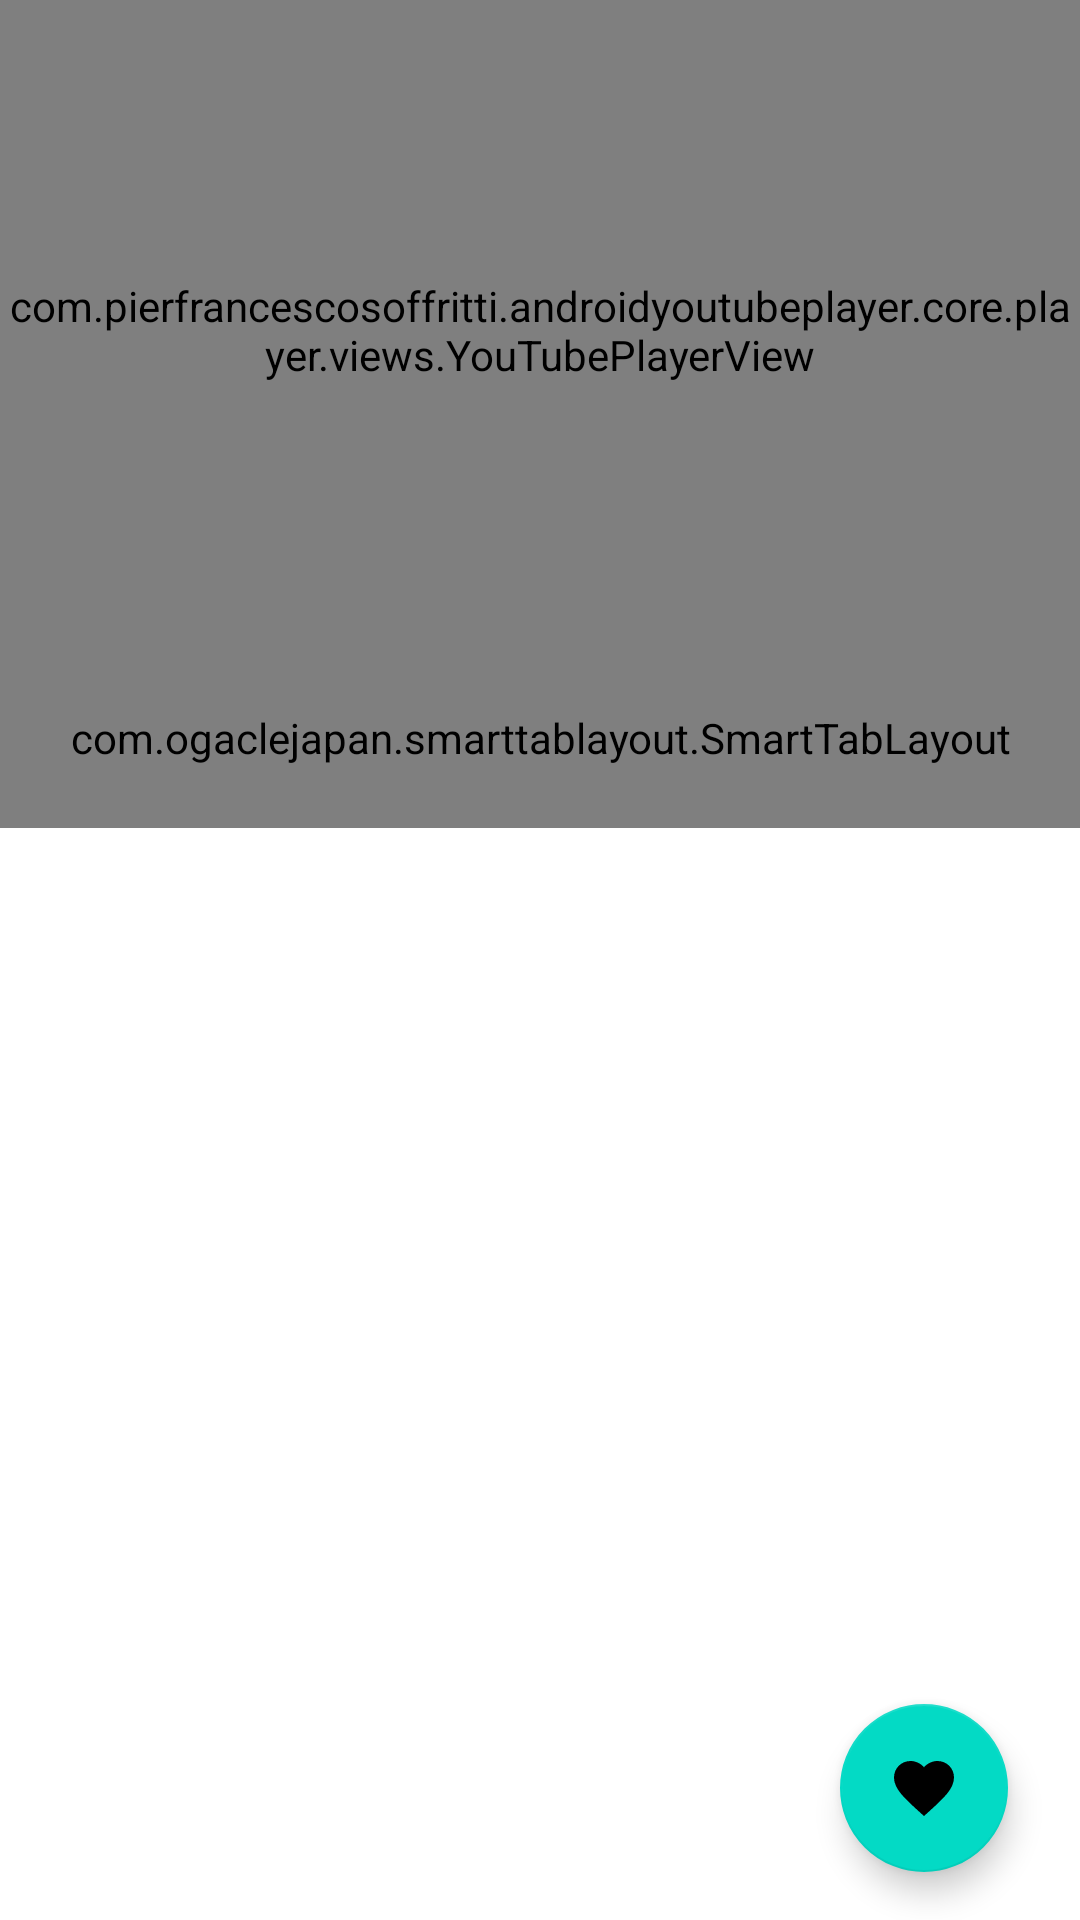

Point at icon controls on the screen. Image size 1080w x 1920h, points as [x,y].
favorite: [924,1788]
